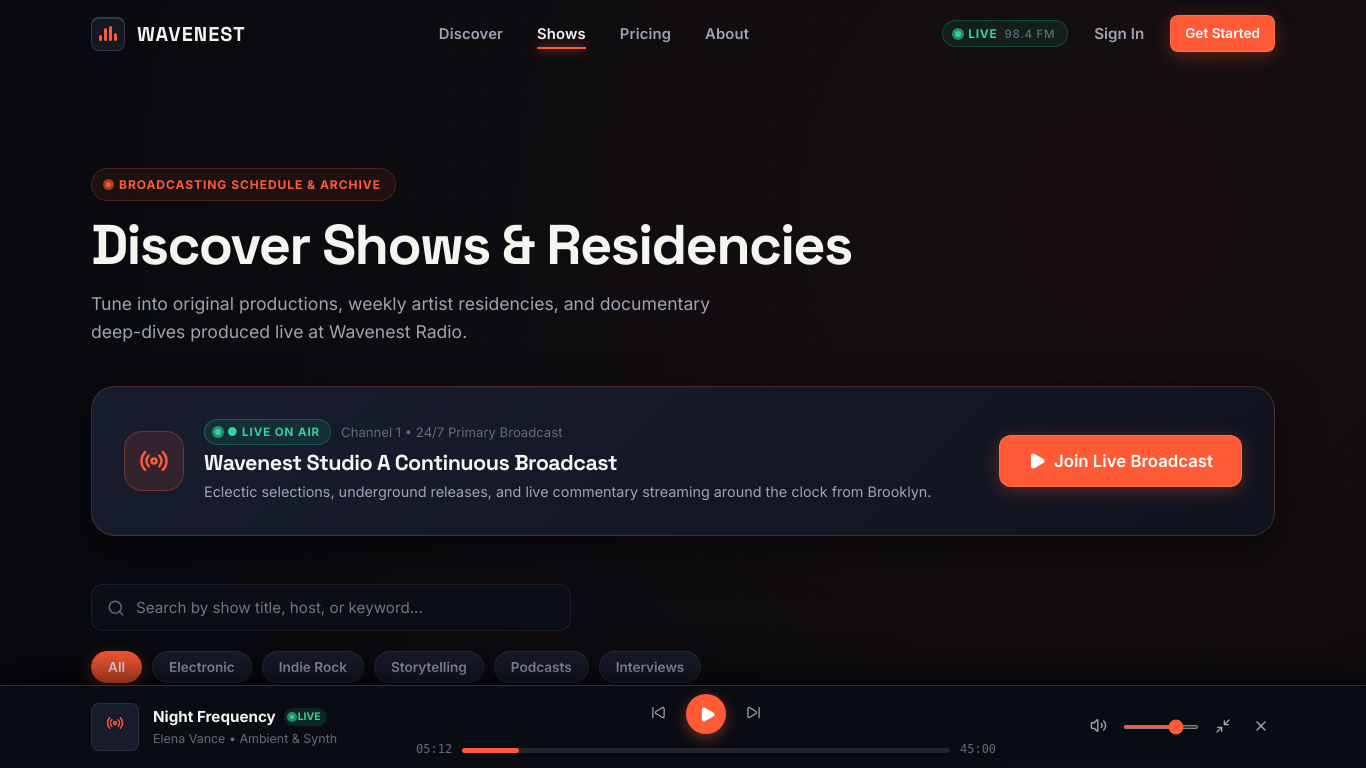
Scenario: Wavenest Radio Application Test Suite › filters shows by search query and genre pill on ShowsPage
Expected: the heading "Discover Shows & Residencies" is shown, [91,209,852,280]
# Search for "Night"
Type "Night" into the field with placeholder "Search by show title, host, or keyword..." at (331, 608), box [91,584,571,631]
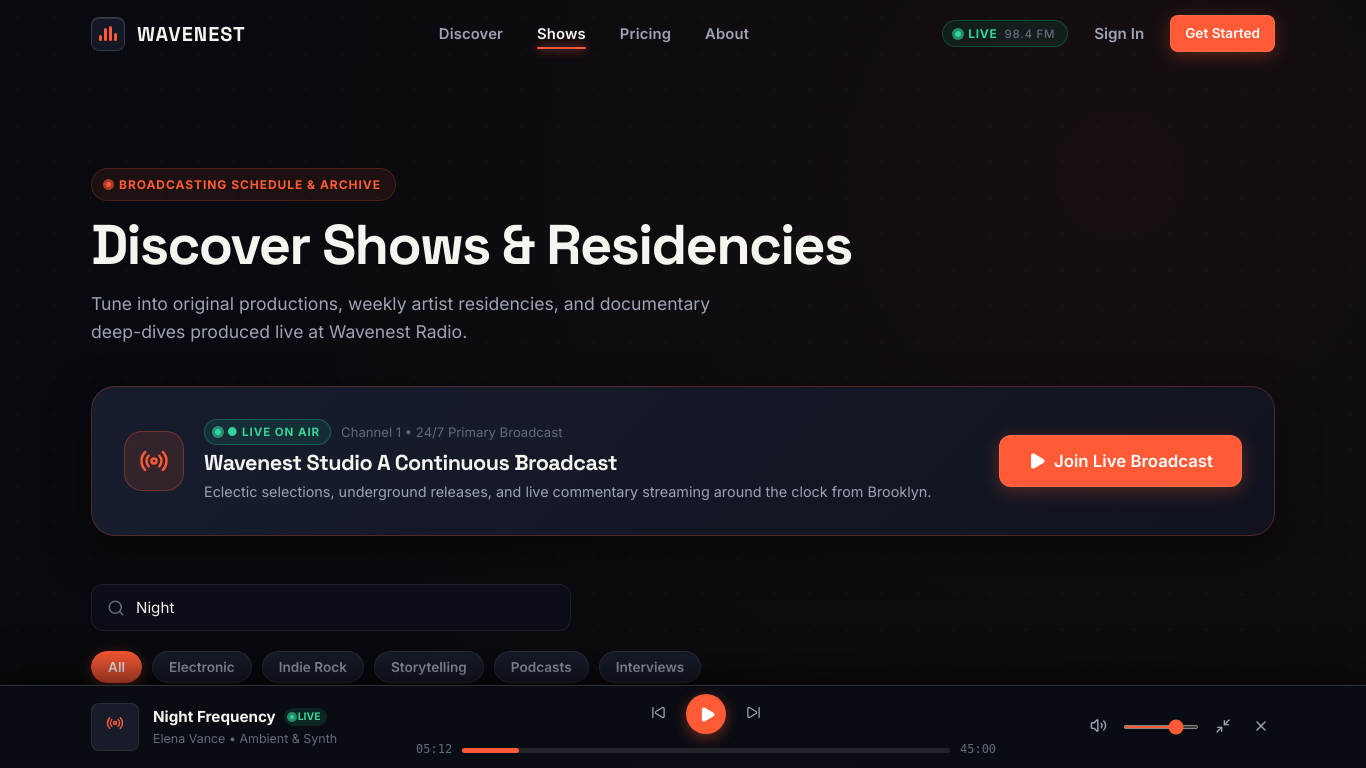
Expected: the text "The Indie Hour" is not shown
# Reset search
Clear the field with placeholder "Search by show title, host, or keyword..." at (331, 608), box [91,584,571,631]
(page scrolled)
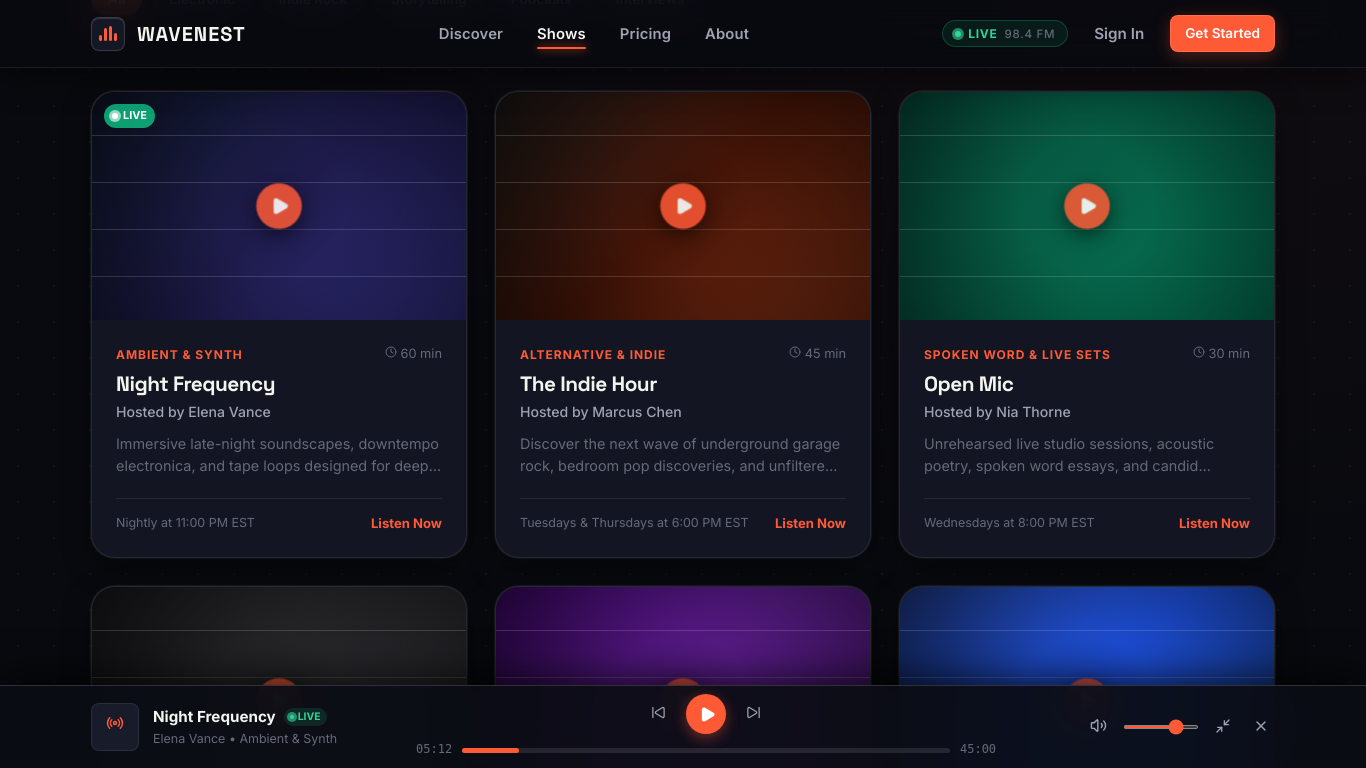
Expected: the heading "The Indie Hour" is shown, [520,371,657,397]
